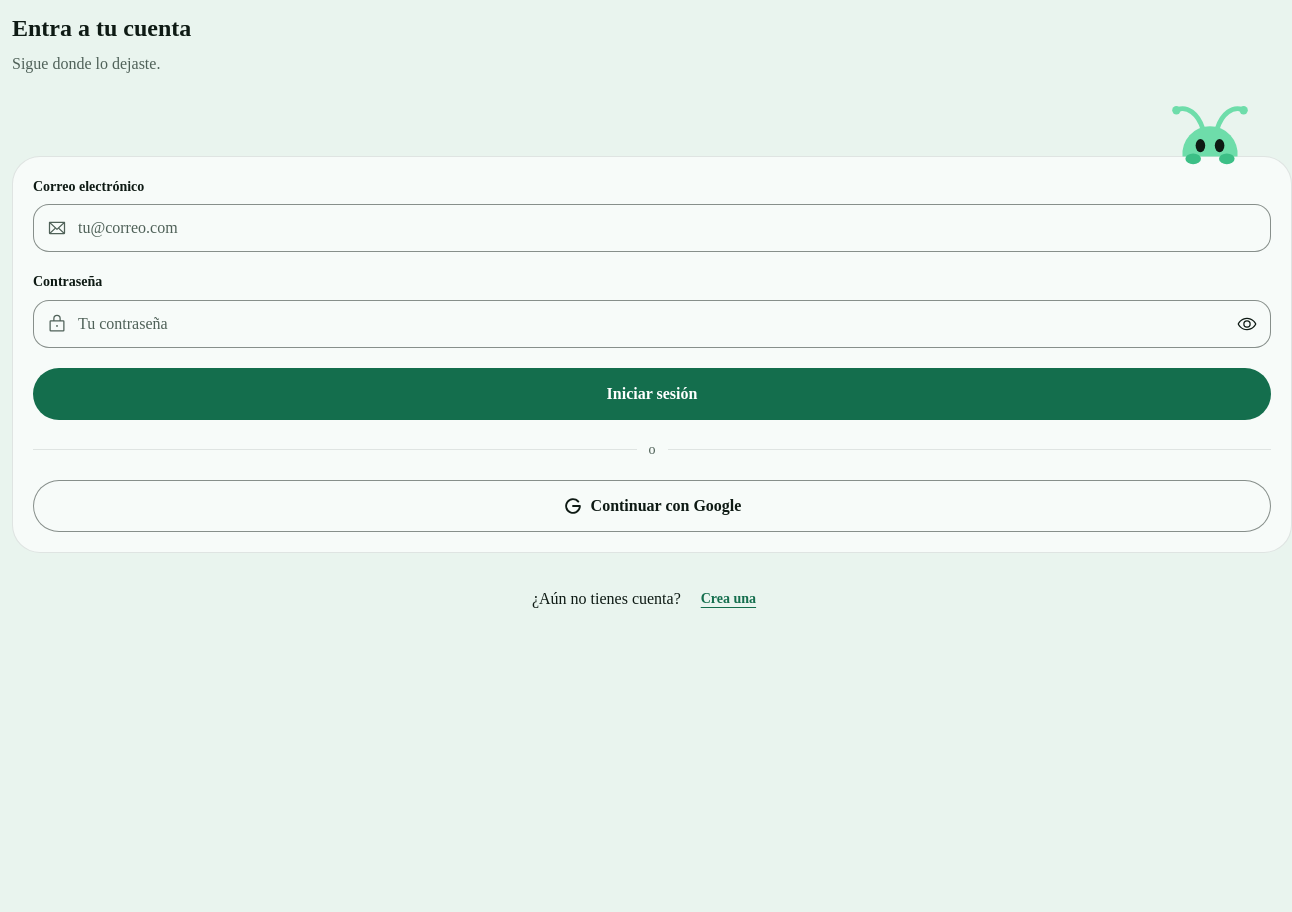
Test: LoginForm: signing in with email › shows the backend's error in Spanish, never its English detail, and still signs out
Type "ana@correo.com" into the field labelled "Correo electrónico" at point(652, 228), box top-left (33, 204), bottom-right (1271, 252)
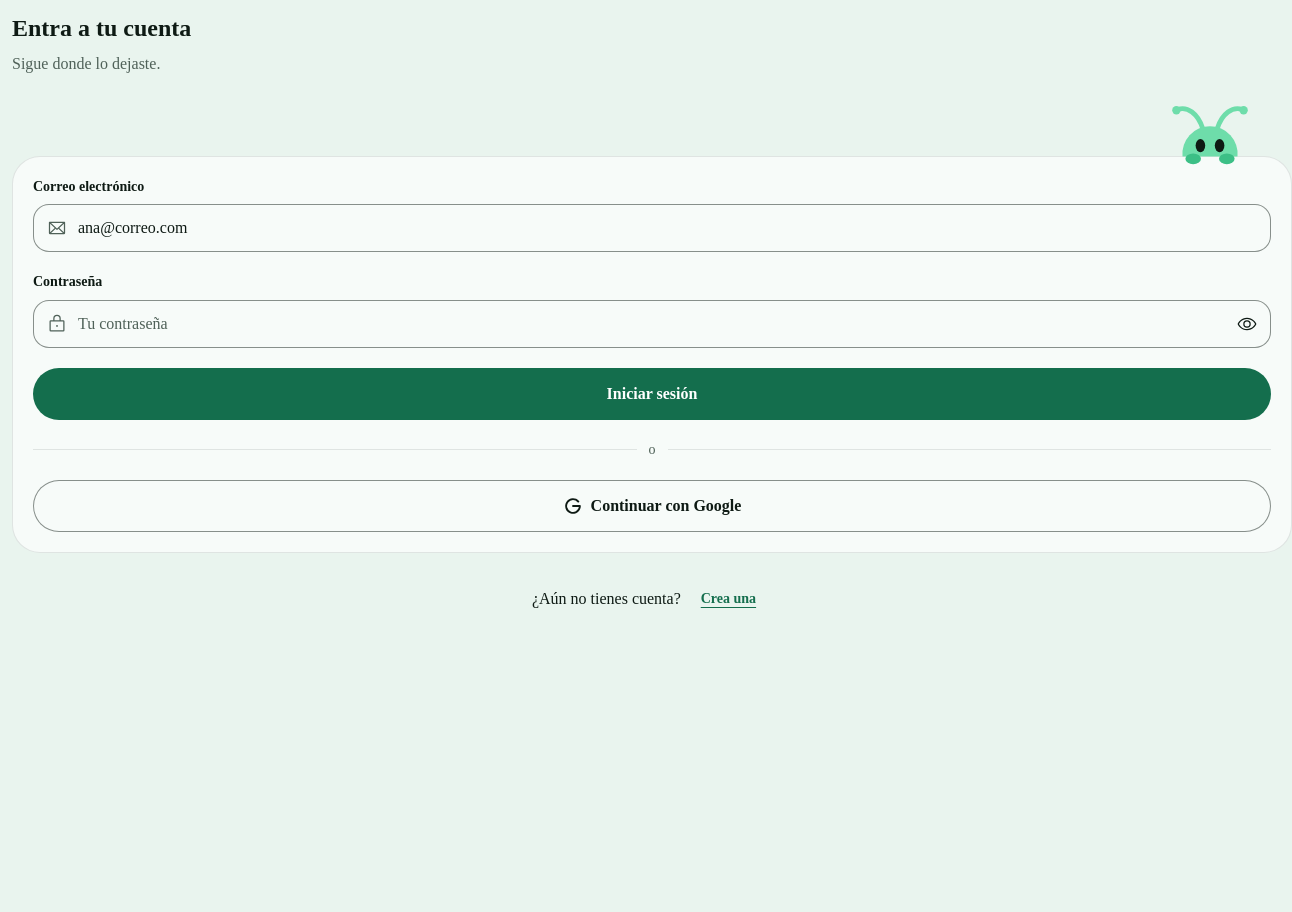
Type "secreta" into the password field labelled "Contraseña" at point(652, 324), box top-left (33, 300), bottom-right (1271, 348)
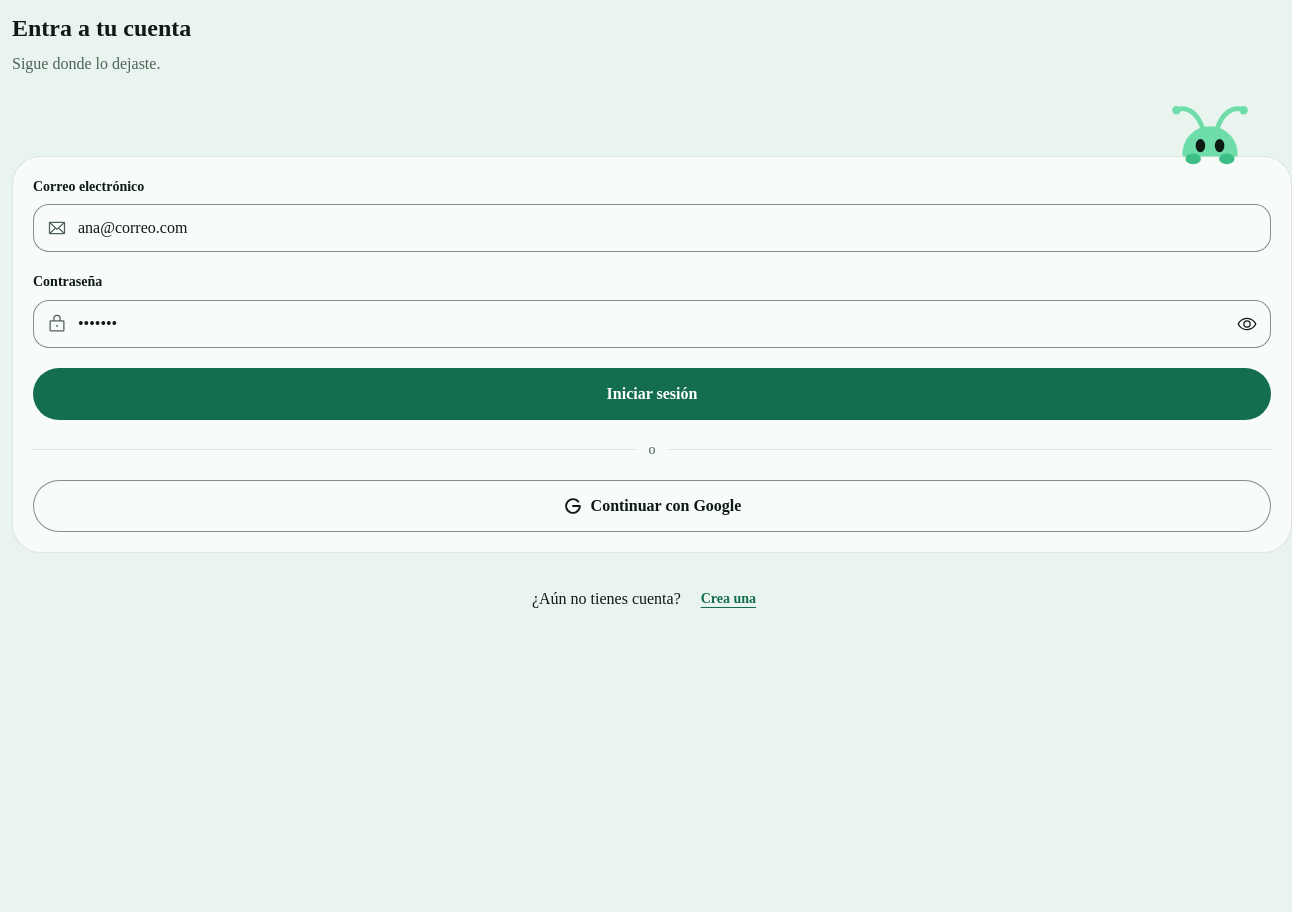
Click the button "Iniciar sesión" at point(652, 394), box top-left (33, 368), bottom-right (1271, 420)
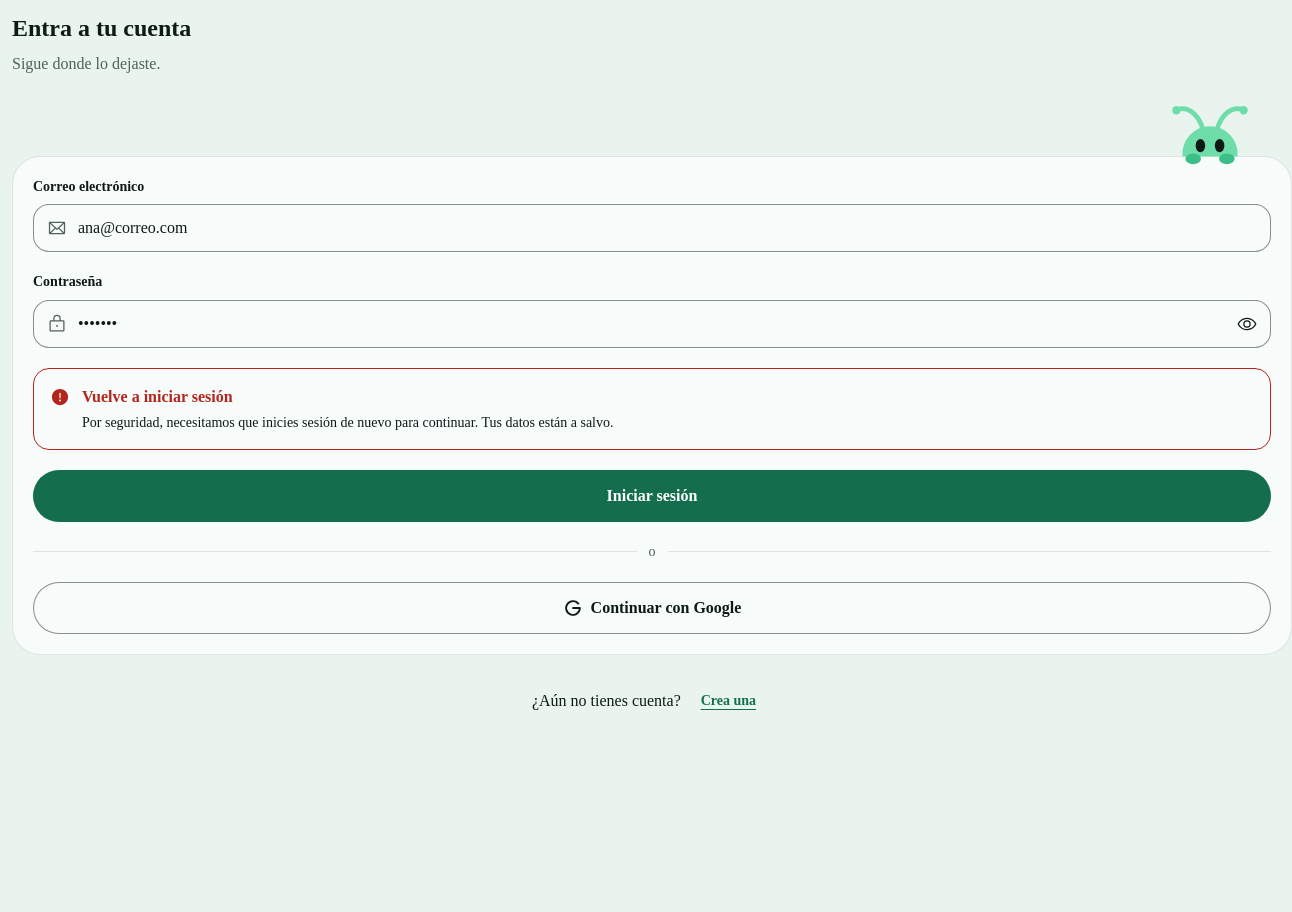
Result: the message shows "Vuelve a iniciar sesión" at top-left (82, 388), bottom-right (233, 404)
